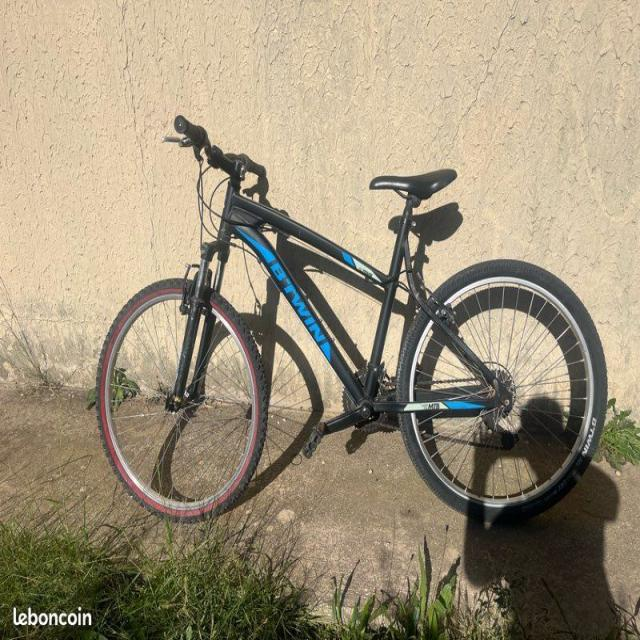Bike: (91, 115, 607, 526)
